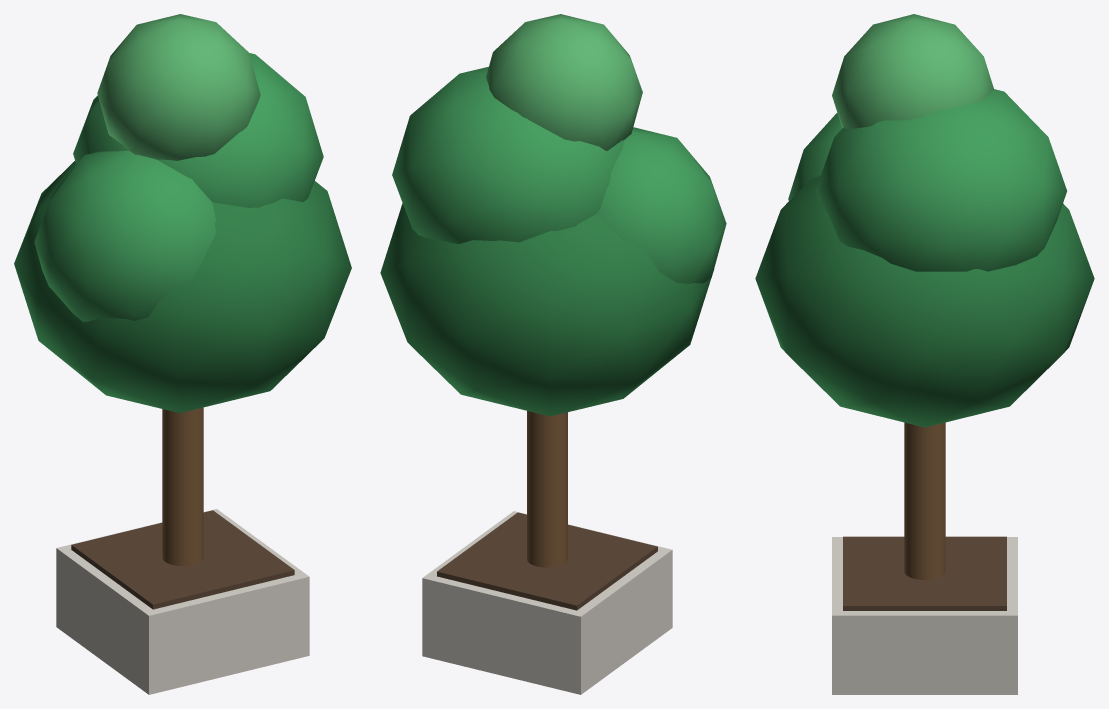
The model's file is Tree.glb.
3 renders of one model, left to right at view 1: azimuth 30°, elevation 25°; view 2: azimuth 150°, elevation 25°; view 3: azimuth 270°, elevation 25°, orthographic.
Visible parts, largest first — view 1: Tree_geometry; view 2: Tree_geometry; view 3: Tree_geometry.
Part boxes in pixels (box(x1,y1,x2,y2)): Tree_geometry: box(14, 14, 351, 694); Tree_geometry: box(380, 14, 726, 694); Tree_geometry: box(755, 14, 1094, 694).
Bounding box in the file's own units: 1.92 × 3.87 × 1.89.
